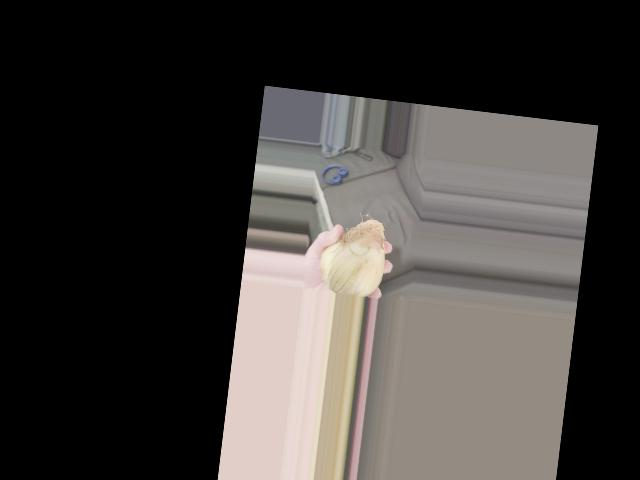onion: (318, 212, 390, 294)
